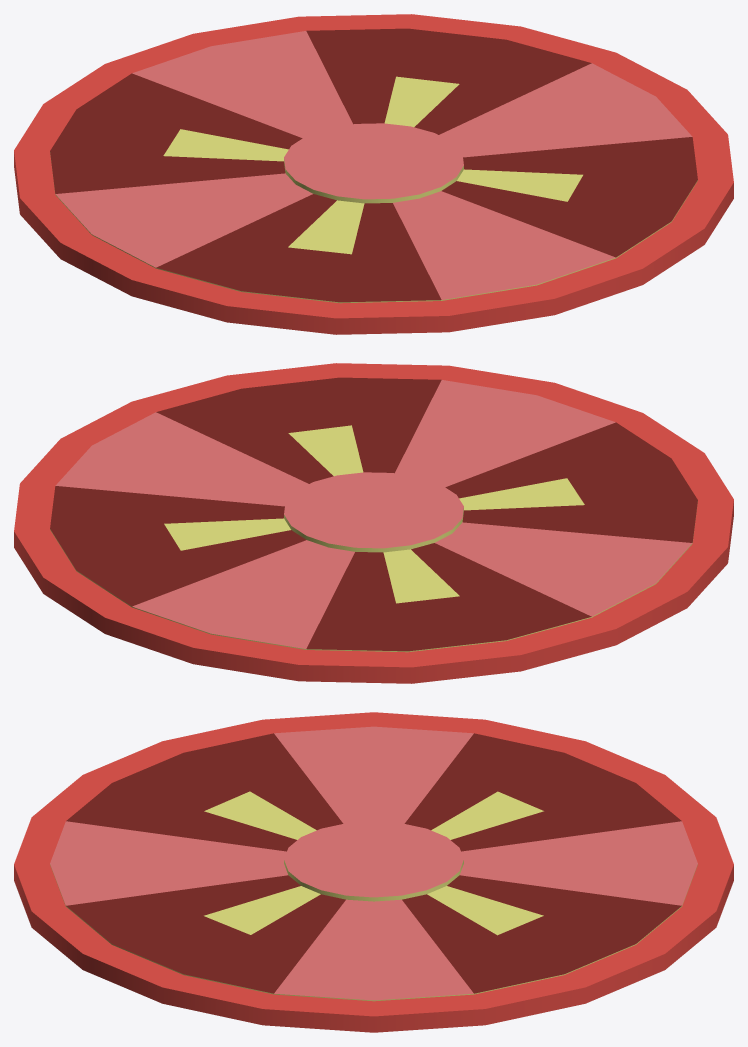
Rendered from ratchet_tomato.fbx.
3 renders of one model, top to bottom at view 1: azimuth 30°, elevation 25°; view 2: azimuth 150°, elevation 25°; view 3: azimuth 270°, elevation 25°, orthographic.
Parts seen in each view (by area): view 1: pCylinder2, pCylinder1, pCylinder3; view 2: pCylinder2, pCylinder1, pCylinder3; view 3: pCylinder2, pCylinder1, pCylinder3.
Part boxes in pixels (<box>): pCylinder2: <box>50,28,697,303</box>; pCylinder1: <box>14,14,733,334</box>; pCylinder3: <box>284,123,463,203</box>; pCylinder2: <box>50,377,697,652</box>; pCylinder1: <box>14,363,733,683</box>; pCylinder3: <box>284,472,463,552</box>; pCylinder2: <box>50,726,697,1001</box>; pCylinder1: <box>14,712,733,1032</box>; pCylinder3: <box>284,821,463,901</box>.
Size of the model in its own units: 20 by 0.8 by 20.
